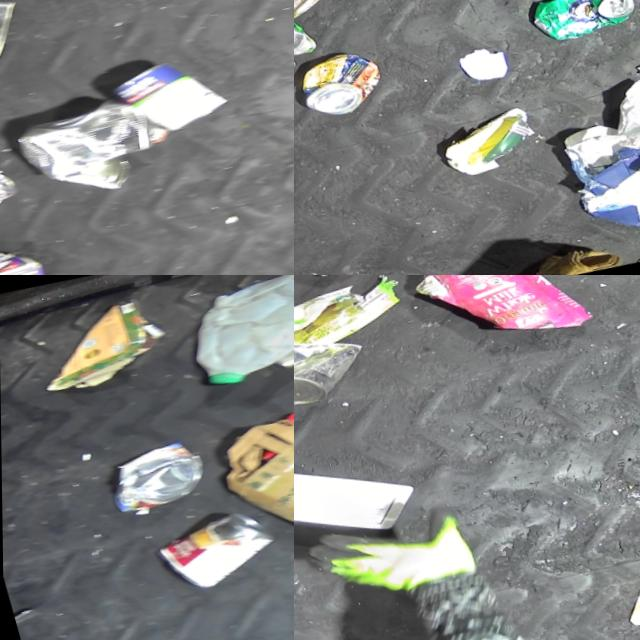can: (5, 84, 171, 212), (140, 491, 289, 603), (89, 40, 241, 148), (101, 428, 219, 526), (294, 316, 374, 416), (294, 38, 386, 120), (525, 0, 640, 43), (0, 147, 33, 247), (294, 0, 316, 64), (294, 0, 330, 23)
milk_jug: (294, 434, 425, 559), (175, 275, 294, 396)
